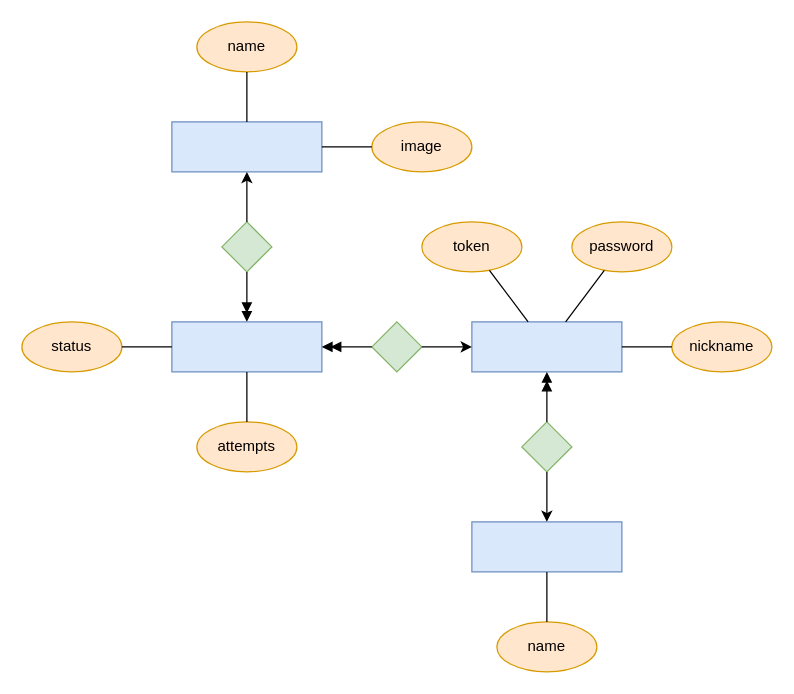
Image size: 794x694. Some labels were removed from this diagram. The shapes that lost their labels are listed below. From the top down, each one's centre as x and y in pixels, then its label:
[246,146]: bosses
[246,346]: fights
[546,346]: users
[546,546]: roles
